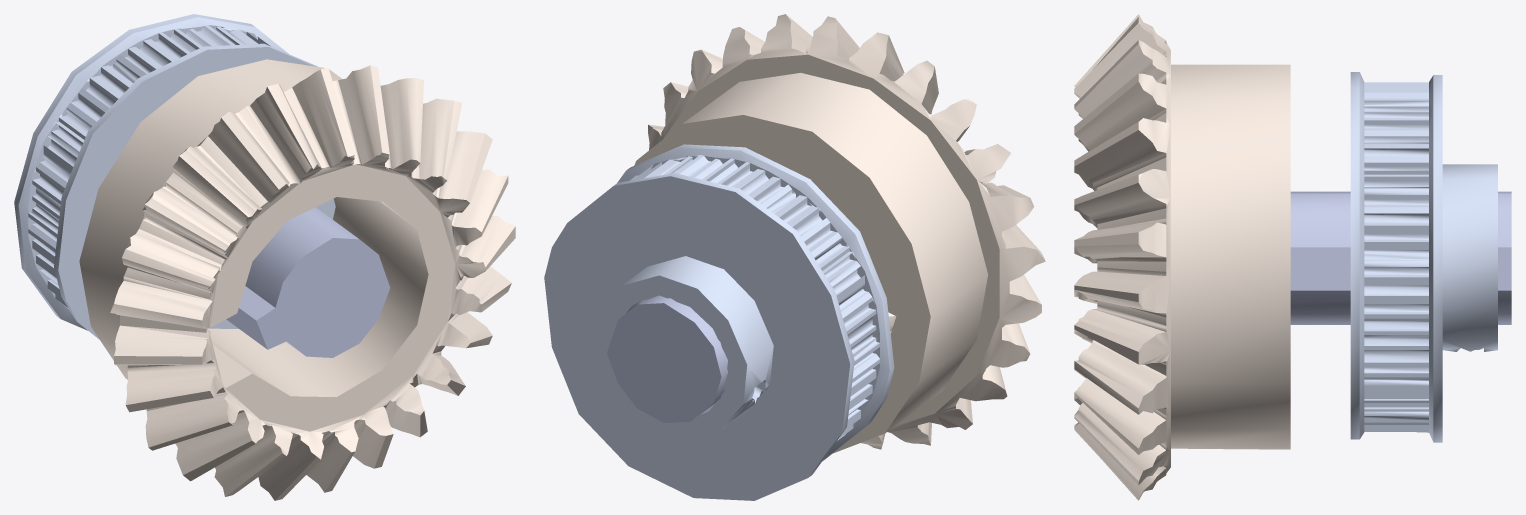
File: wrist_left_gear_link.dae
3 views of the same model, side by side, from view 1: azimuth 30°, elevation 25°; view 2: azimuth 150°, elevation 25°; view 3: azimuth 270°, elevation 25° (orthographic). The views are drawn at different scales.
Visible parts, largest first — view 1: wrist_left_gear_link; view 2: wrist_left_gear_link; view 3: wrist_left_gear_link.
Boxes of the visible parts, <box> form: wrist_left_gear_link: <box>14,14,515,500</box>; wrist_left_gear_link: <box>544,14,1045,500</box>; wrist_left_gear_link: <box>1074,14,1511,500</box>.
Bounding box in the file's own units: 0.053 × 0.0475 × 0.053.
